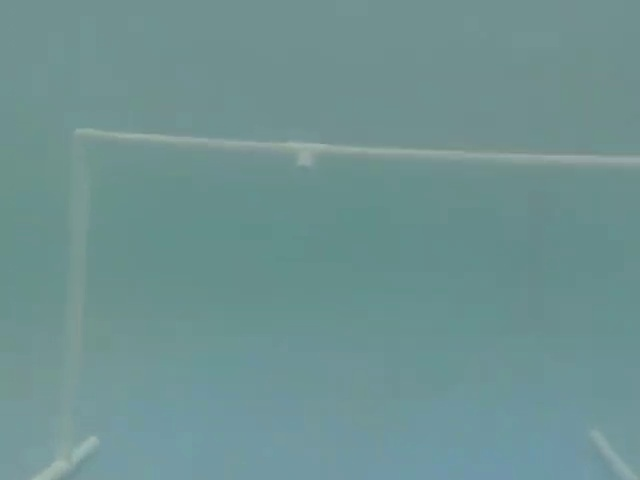gate: (42, 111, 638, 480)
